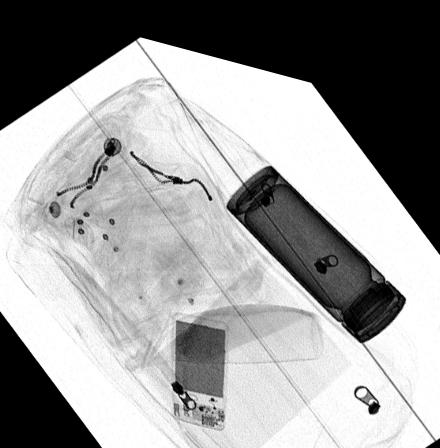Powerbank: (170, 300, 228, 419)
